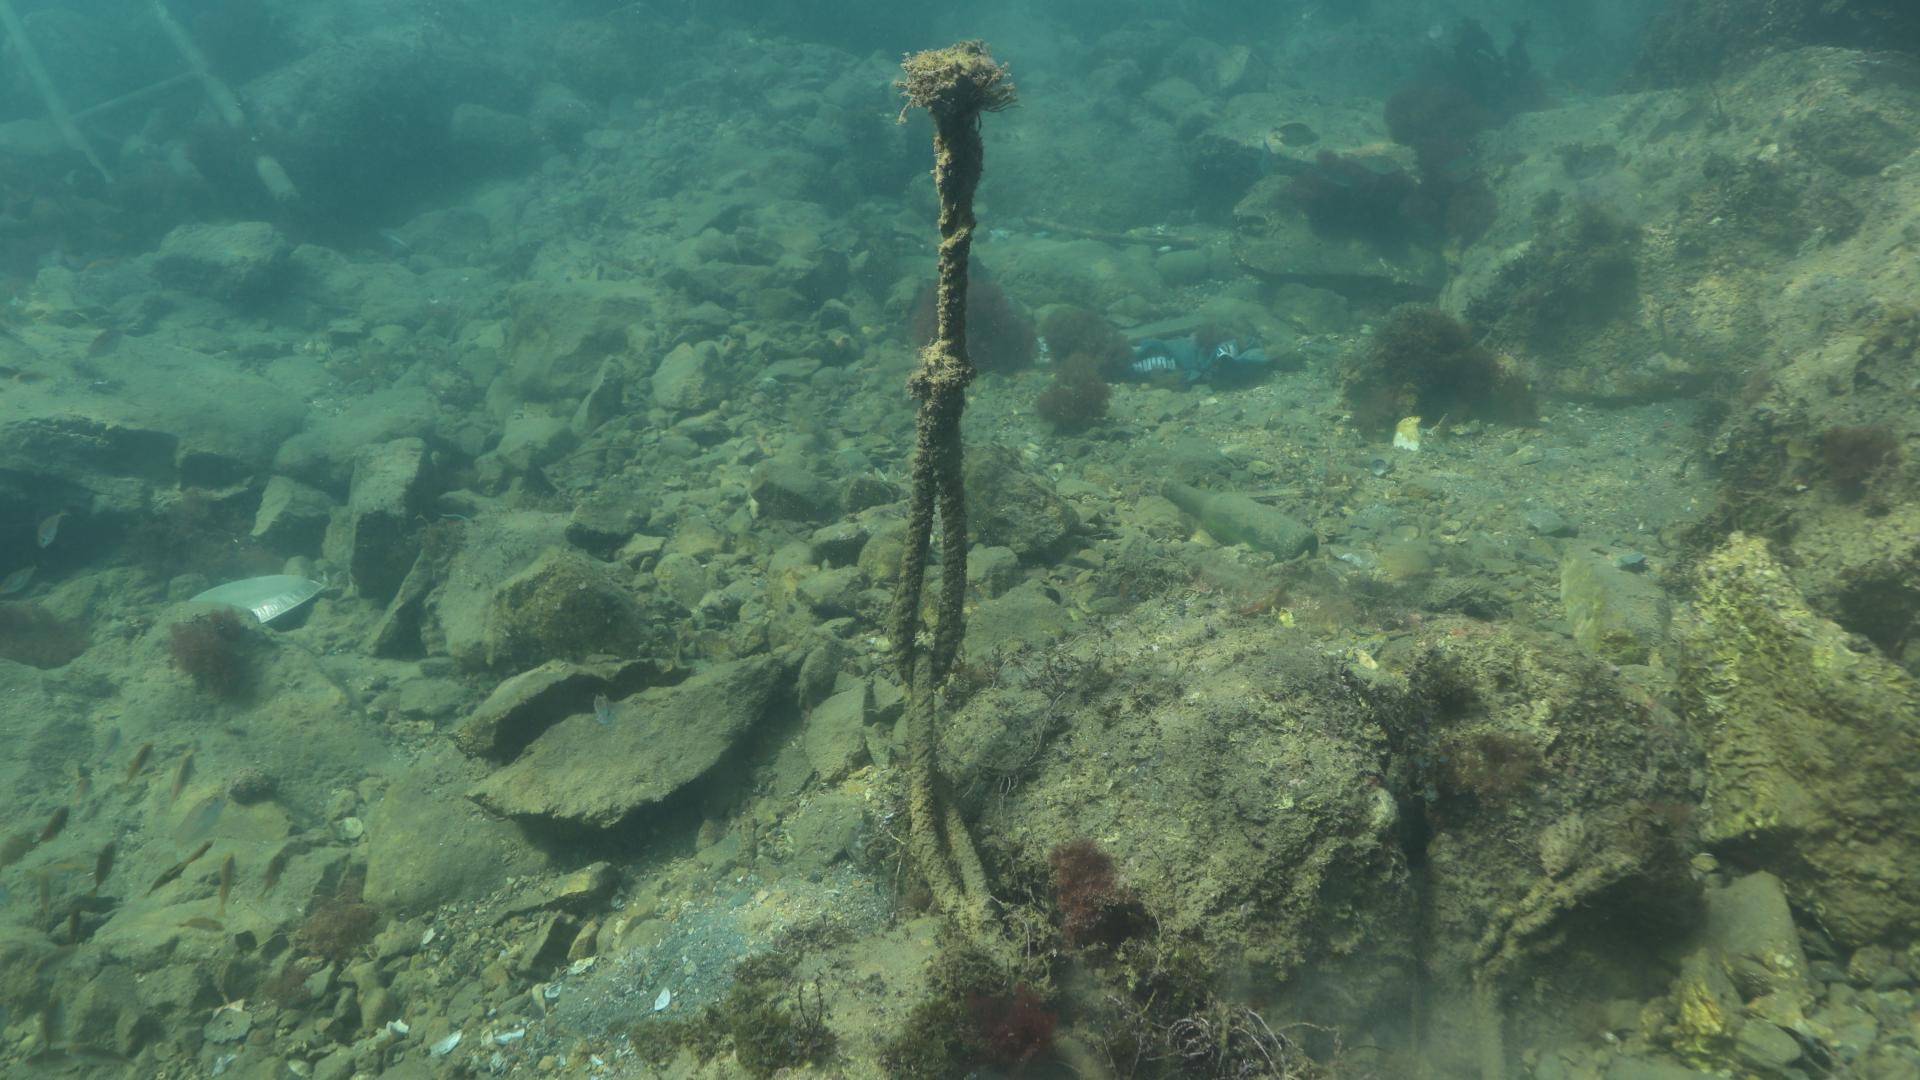bundle of ropes: (885, 137, 992, 916)
